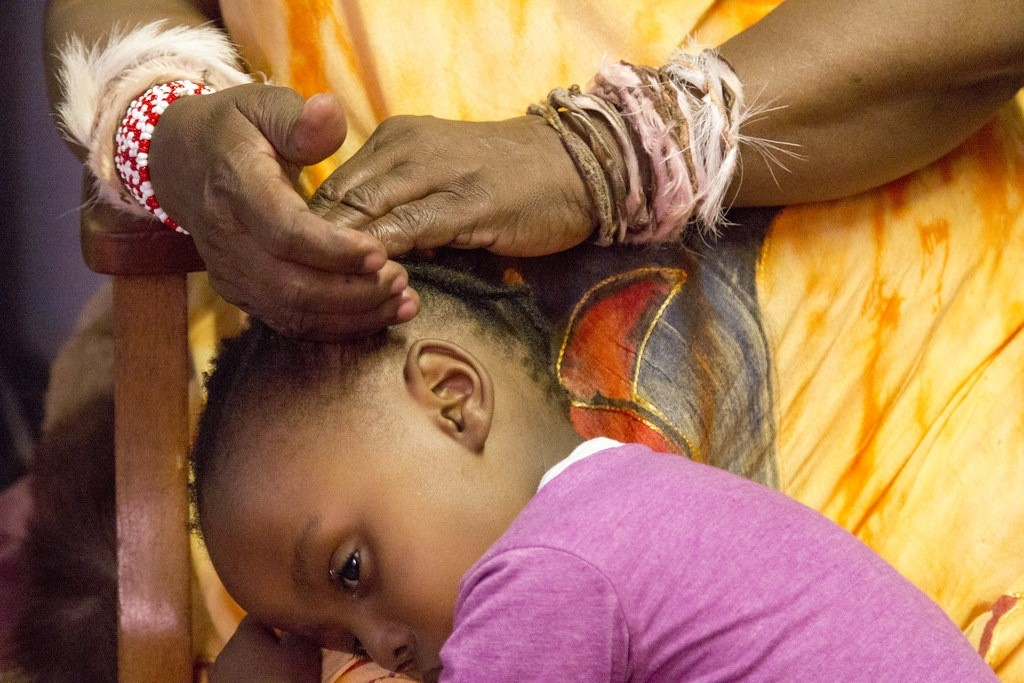face_no_mask: (199, 264, 571, 682)
